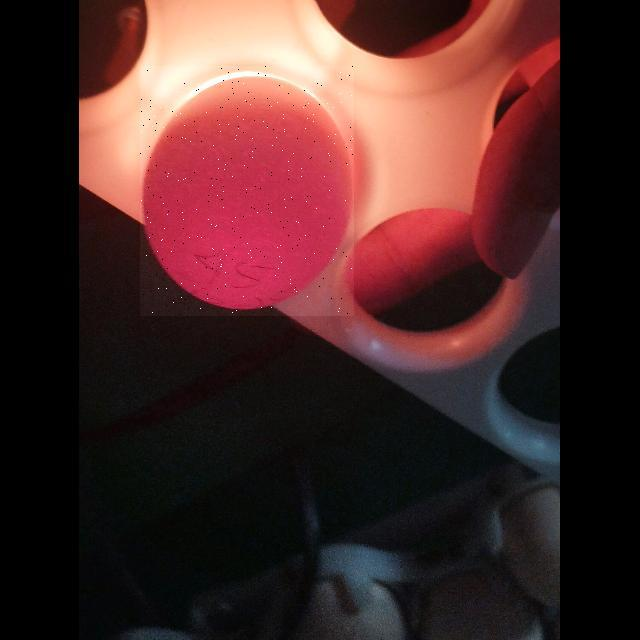Infertile: (140, 66, 354, 316)
